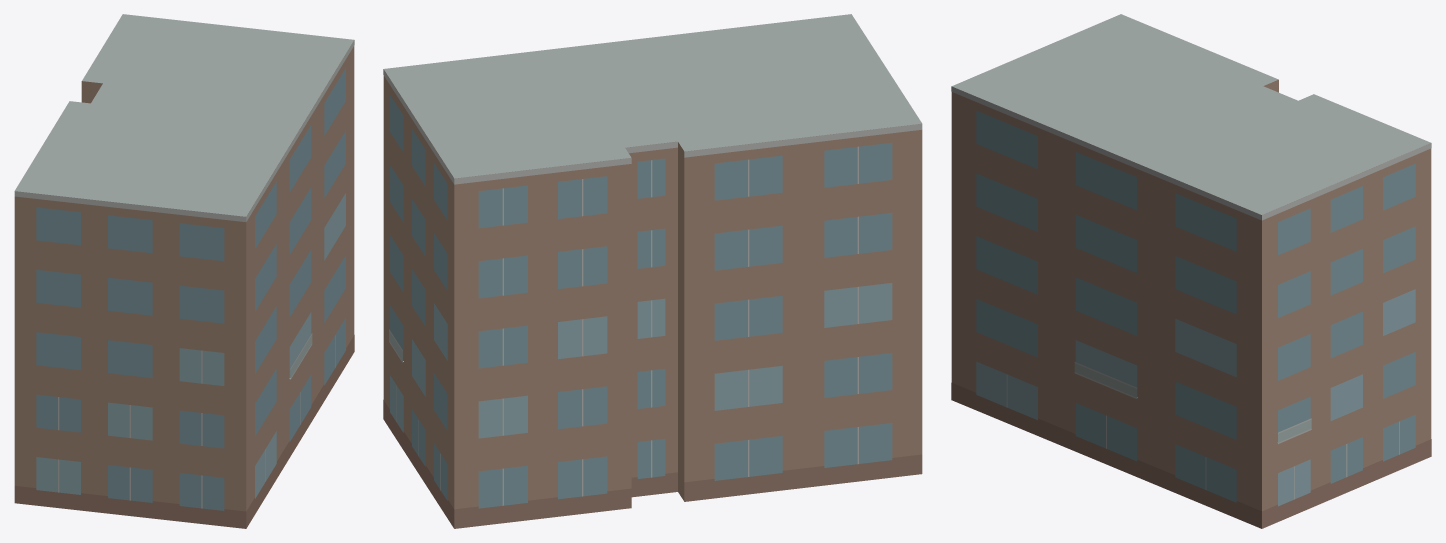
The model's file is survey-upis-32795874.glb.
The picture shows the model from 3 angles, left to right: view 1: azimuth 30°, elevation 25°; view 2: azimuth 150°, elevation 25°; view 3: azimuth 270°, elevation 25°; orthographic projection. The views are drawn at different scales.
Parts seen in each view (by area): view 1: survey-upis-32795874.tmp; view 2: survey-upis-32795874.tmp; view 3: survey-upis-32795874.tmp.
Part boxes in pixels (x1,y1,x2,y2): survey-upis-32795874.tmp: (14,14,354,528); survey-upis-32795874.tmp: (383,14,922,528); survey-upis-32795874.tmp: (951,14,1431,528).
Bounding box in the file's own units: 19.39 × 14.1 × 19.55.
